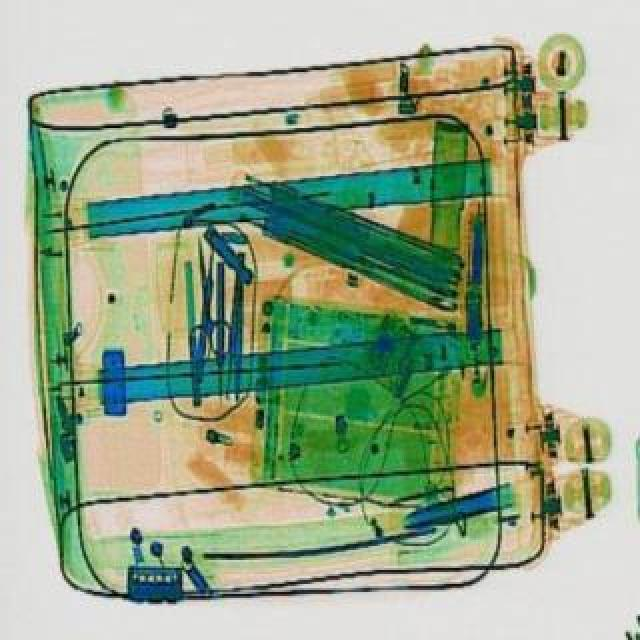pliers: (176, 240, 232, 364)
